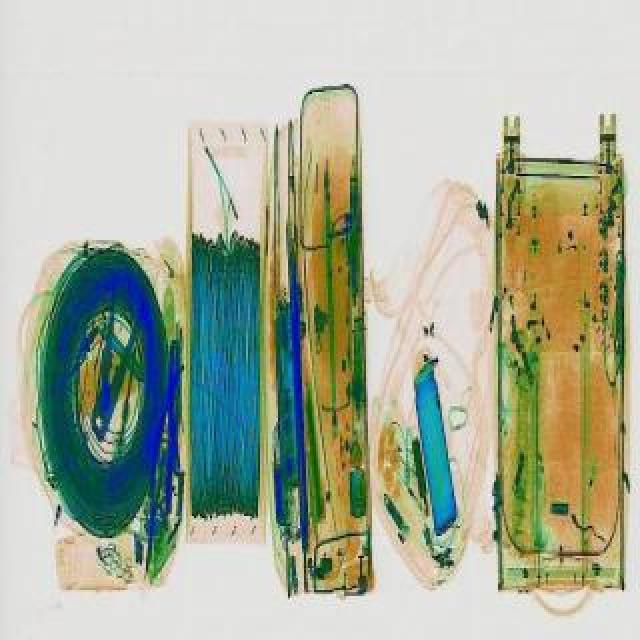wrench: (74, 288, 148, 438)
